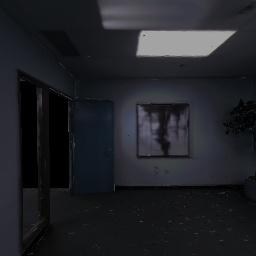door: (65, 96, 121, 200)
door-frame: (18, 75, 76, 232)
